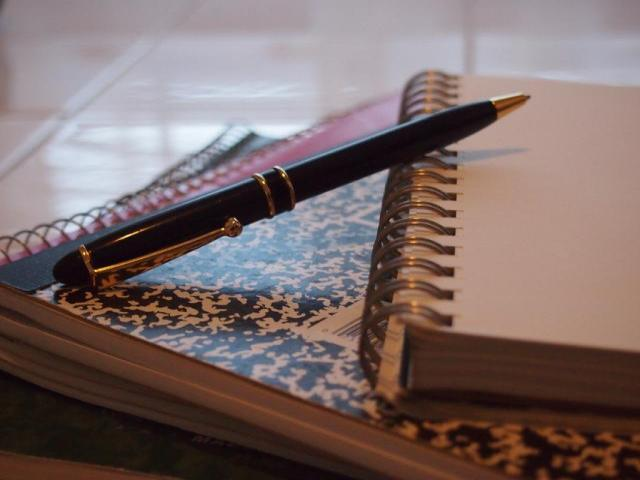PEN: (40, 41, 563, 319)
